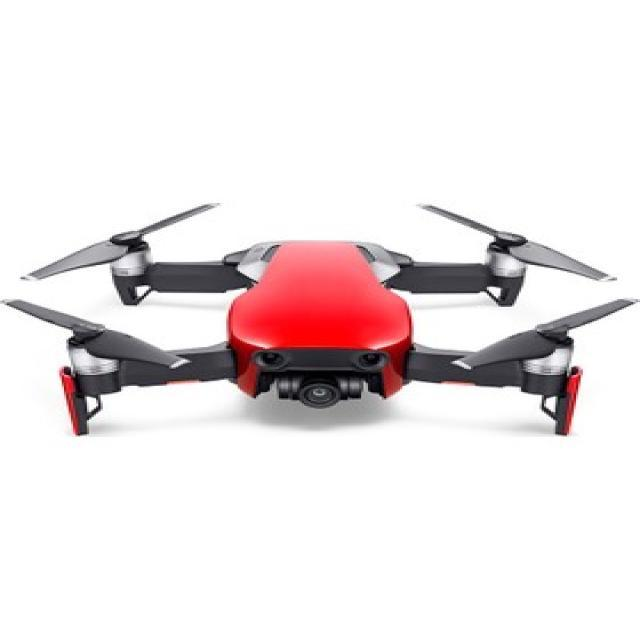drones: (25, 195, 612, 442)
